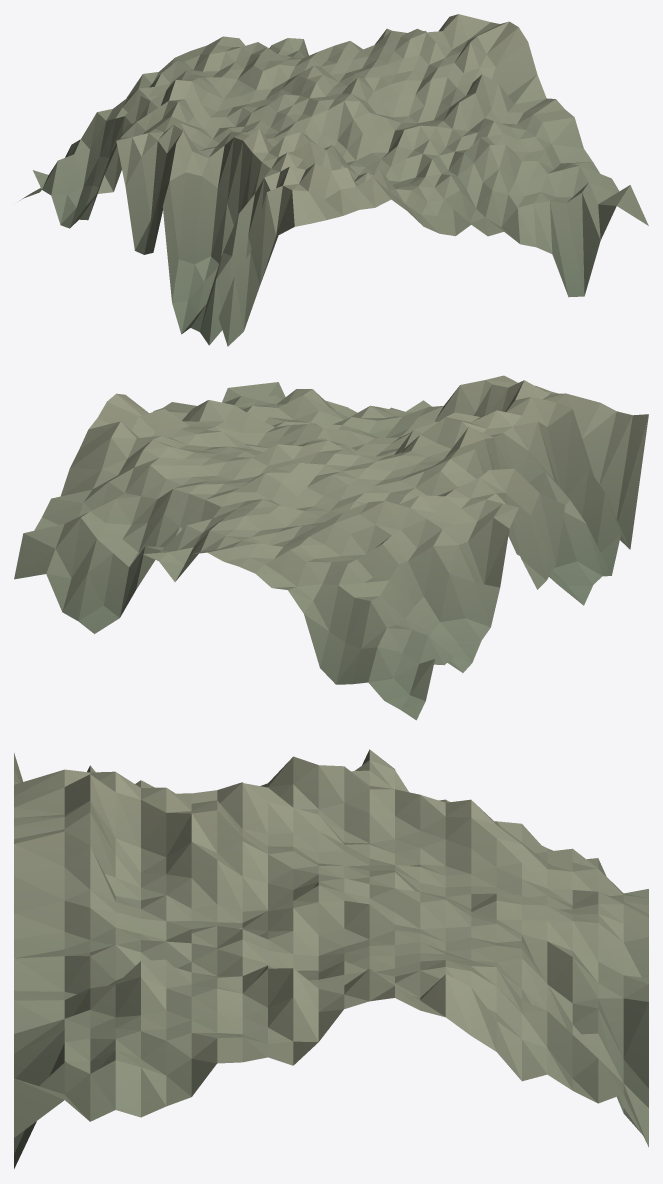
The model's file is tile_2_2.glb.
3 views of the same model, one above another, from view 1: azimuth 30°, elevation 25°; view 2: azimuth 150°, elevation 25°; view 3: azimuth 270°, elevation 25° (orthographic). The views are drawn at different scales.
Parts seen in each view (by area): view 1: geometry_0; view 2: geometry_0; view 3: geometry_0.
Part boxes in pixels (left/top/right/bottom): geometry_0: left=20, top=14, right=648, bottom=346; geometry_0: left=14, top=375, right=648, bottom=720; geometry_0: left=14, top=749, right=648, bottom=1168.
Size of the model in its own units: 123 by 50.9 by 123.
